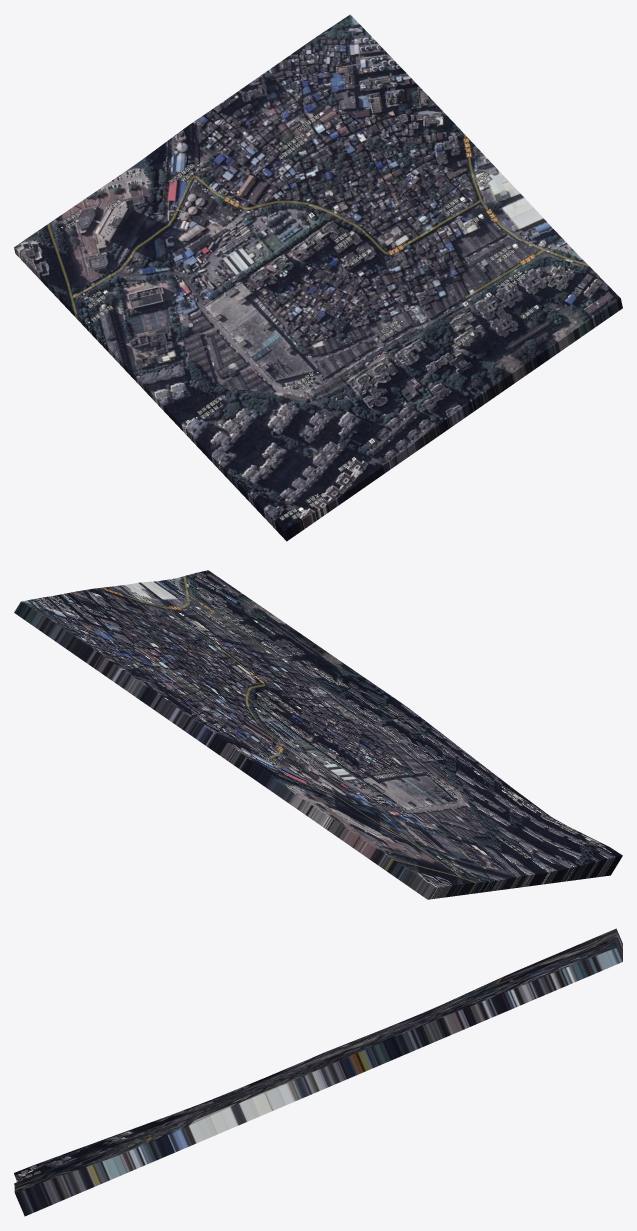
The picture shows the model from 3 angles, top to bottom: view 1: azimuth 30°, elevation 25°; view 2: azimuth 150°, elevation 25°; view 3: azimuth 270°, elevation 25°; orthographic projection. The views are drawn at different scales.
Parts seen in each view (by area): view 1: 0_20_12; view 2: 0_20_12; view 3: 0_20_12.
Boxes of the visible parts, x1,y1,x2,y2 form: 0_20_12: (14,14,622,541); 0_20_12: (14,570,622,899); 0_20_12: (14,928,622,1216).
Bounding box in the file's own units: 598 × 439 × 552.
Materials: 1 (1 with a texture image).
